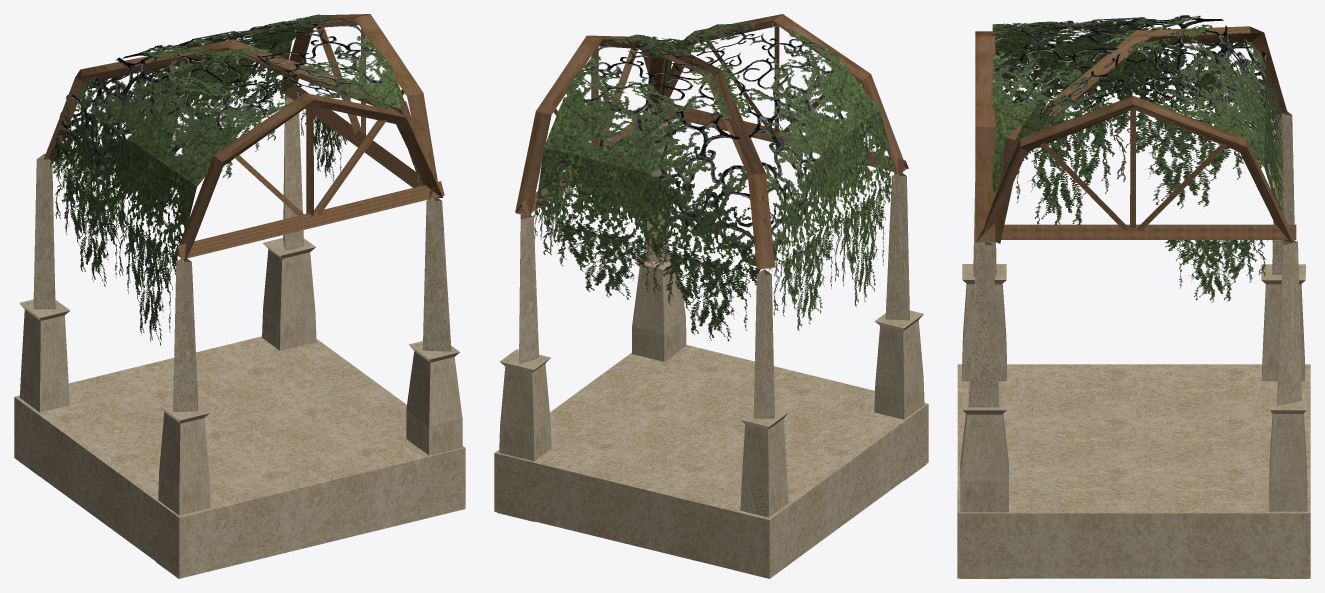
The model's file is thm_nboo_imprv_arbor_corner_90_s01_l1.fbx.
3 views of the same model, side by side, from view 1: azimuth 30°, elevation 25°; view 2: azimuth 150°, elevation 25°; view 3: azimuth 270°, elevation 25° (orthographic). The views are drawn at different scales.
Visible parts, largest first — view 1: mesh_node; view 2: mesh_node; view 3: mesh_node.
Boxes of the visible parts, <box> form: mesh_node: <box>14,14,465,578</box>; mesh_node: <box>494,14,928,578</box>; mesh_node: <box>957,15,1310,578</box>.
Bounding box in the file's own units: 4 × 5.86 × 4.
Materials: 4 (4 with a texture image).
